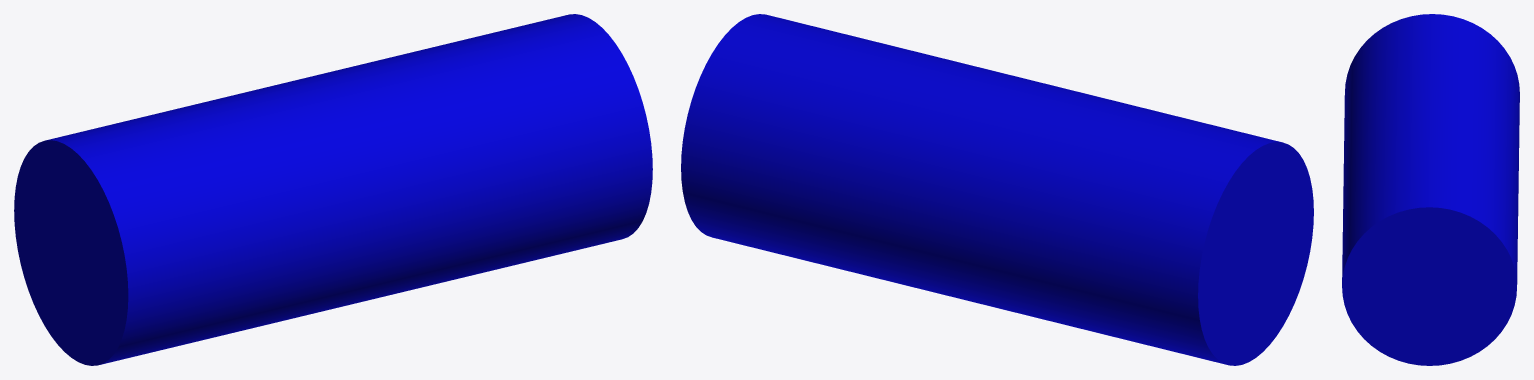
File: EdgeVisibilityMaterial.glb
3 views of the same model, side by side, from view 1: azimuth 30°, elevation 25°; view 2: azimuth 150°, elevation 25°; view 3: azimuth 270°, elevation 25° (orthographic). The views are drawn at different scales.
Size of the model in its own units: 7.61 by 2.9 by 2.95.
